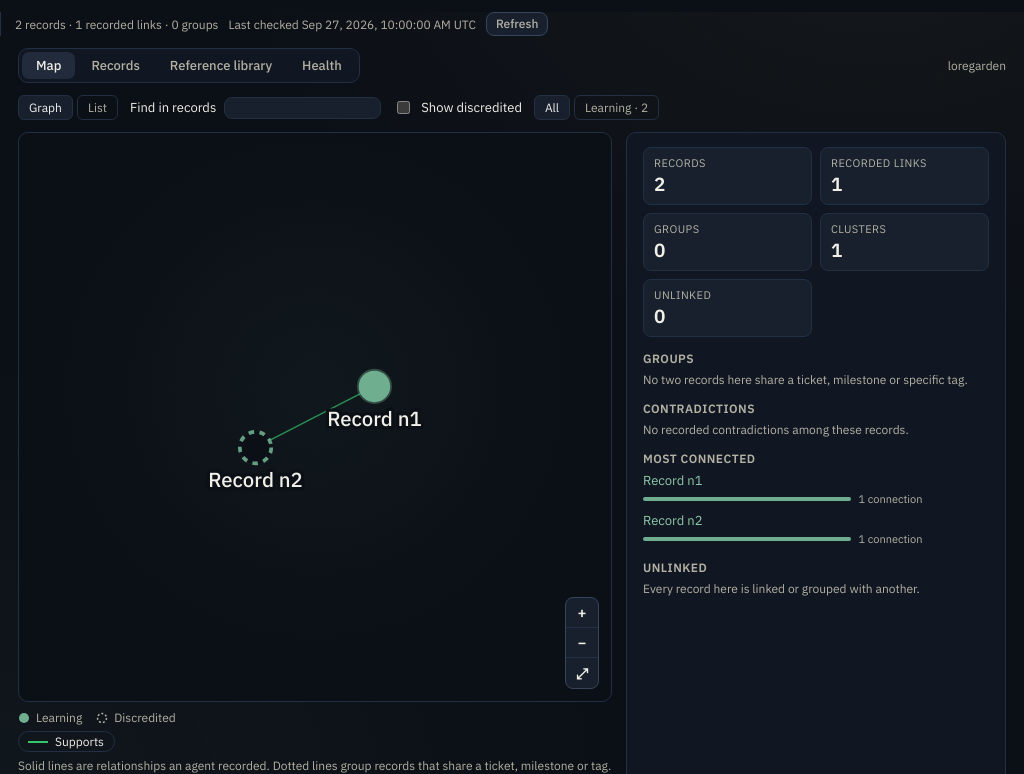
it: disables Refresh and marks it busy while a refresh is in flight
Expected: the element with test id "knowledge-canvas" is shown, [18, 132, 612, 702]
Click the button "Refresh": (517, 24) [486, 12, 548, 36]
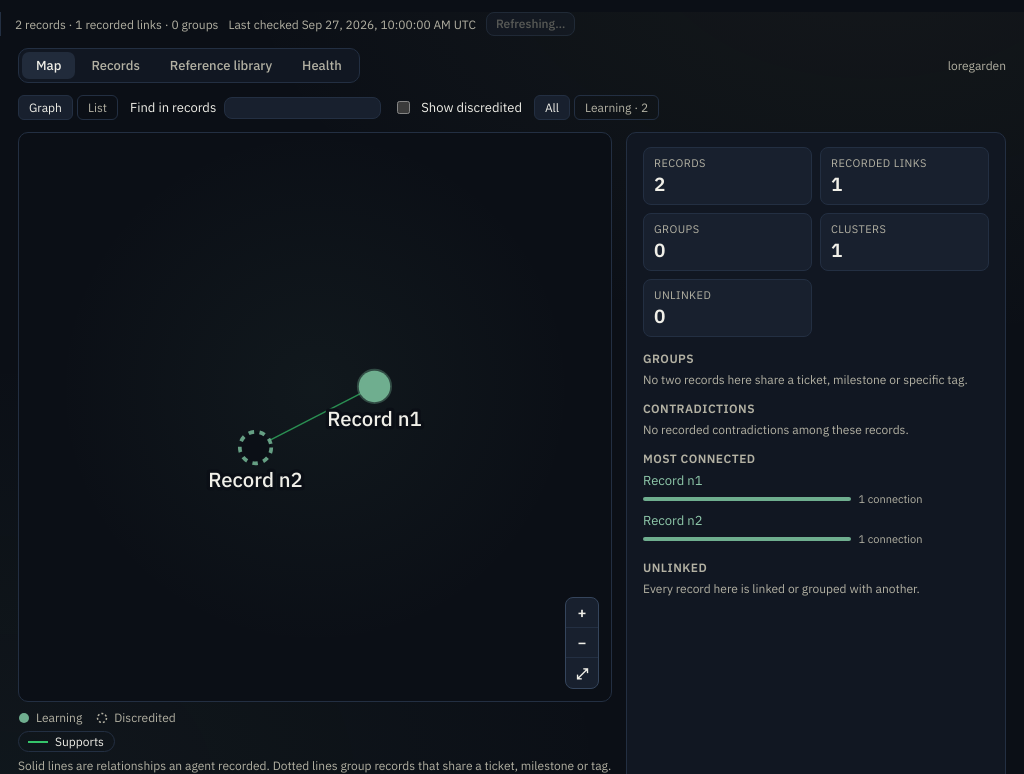
Result: the button "Refreshing…" is disabled at [486, 12, 575, 36]
